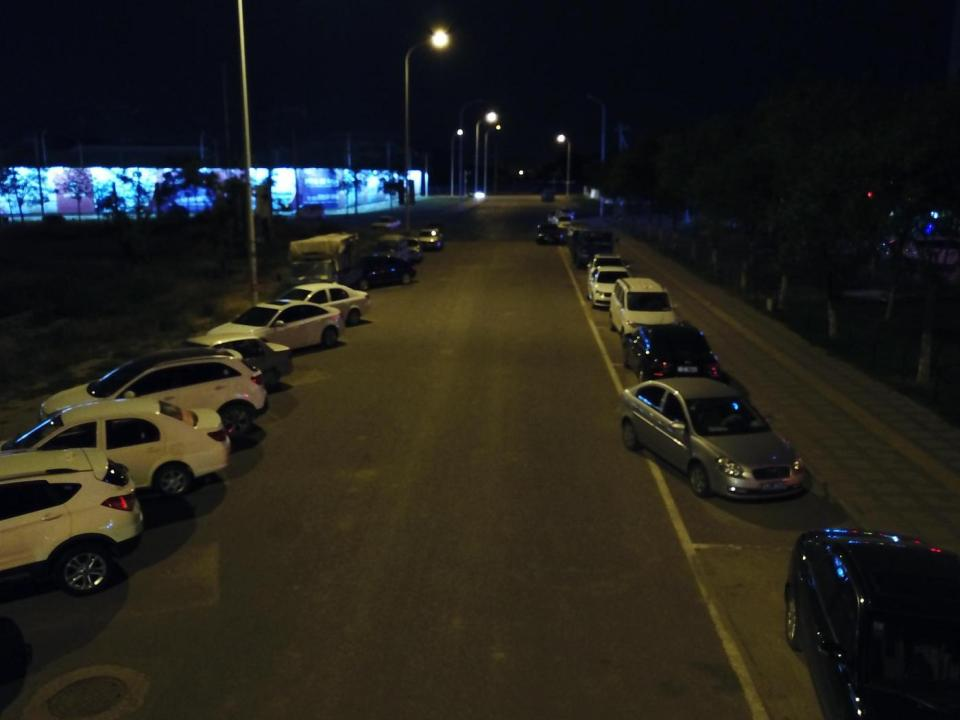car: (779, 524, 960, 716), (612, 377, 809, 502), (0, 394, 239, 495), (0, 444, 145, 594), (35, 353, 272, 440), (131, 333, 300, 388), (208, 298, 351, 358), (616, 322, 729, 392), (260, 278, 370, 334), (598, 276, 680, 340), (350, 255, 418, 290), (588, 266, 640, 308), (588, 248, 626, 285), (395, 236, 423, 265), (534, 220, 565, 245), (372, 214, 402, 232), (419, 227, 443, 249), (554, 213, 576, 228), (551, 206, 574, 219)
truck: (274, 229, 372, 304), (574, 228, 622, 267)
van: (377, 232, 410, 267), (565, 222, 598, 248), (295, 202, 327, 220)
